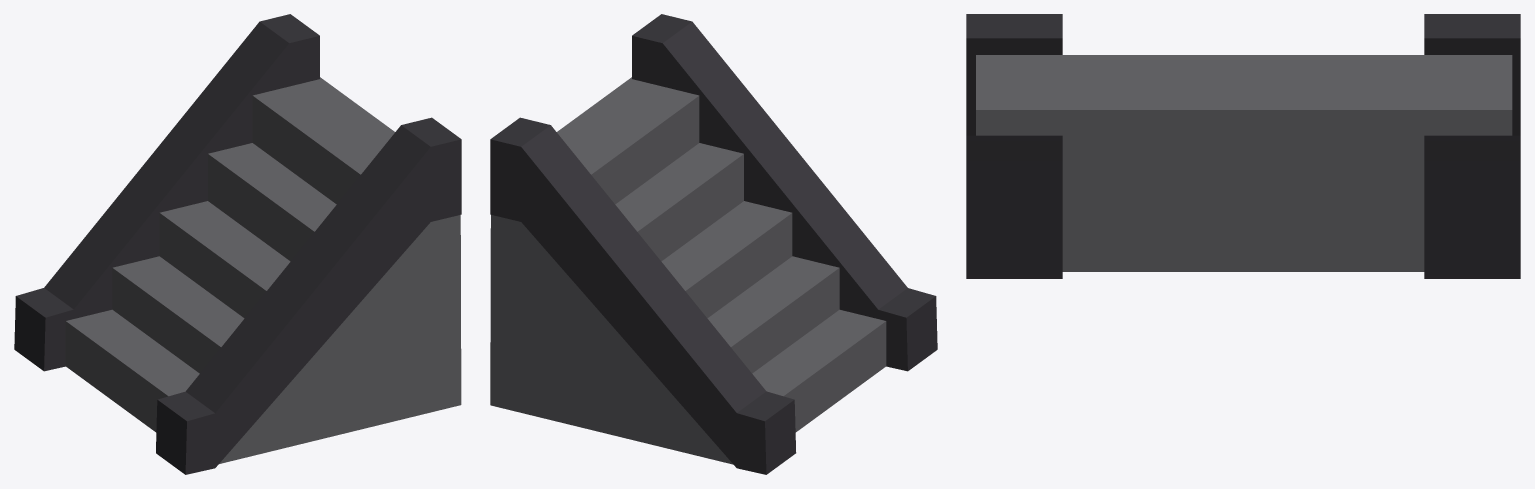
File: steps02.fbx
3 renders of one model, left to right at view 1: azimuth 30°, elevation 25°; view 2: azimuth 150°, elevation 25°; view 3: azimuth 270°, elevation 25°, orthographic. The views are drawn at different scales.
Parts seen in each view (by area): view 1: steps02; view 2: steps02; view 3: steps02.
Part boxes in pixels (x1=…): steps02: x1=14, y1=14, x2=461, y2=474; steps02: x1=490, y1=14, x2=937, y2=474; steps02: x1=966, y1=14, x2=1520, y2=278.
Bounding box in the file's own units: 357 × 329 × 380.
